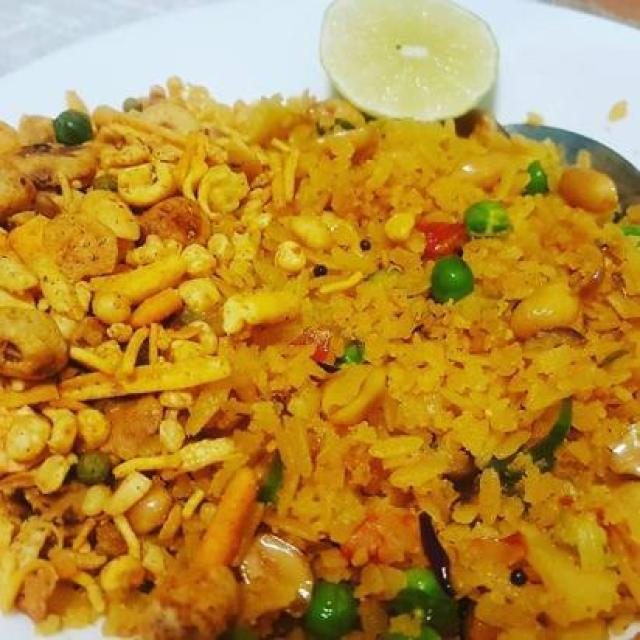poha: (168, 119, 616, 610)
